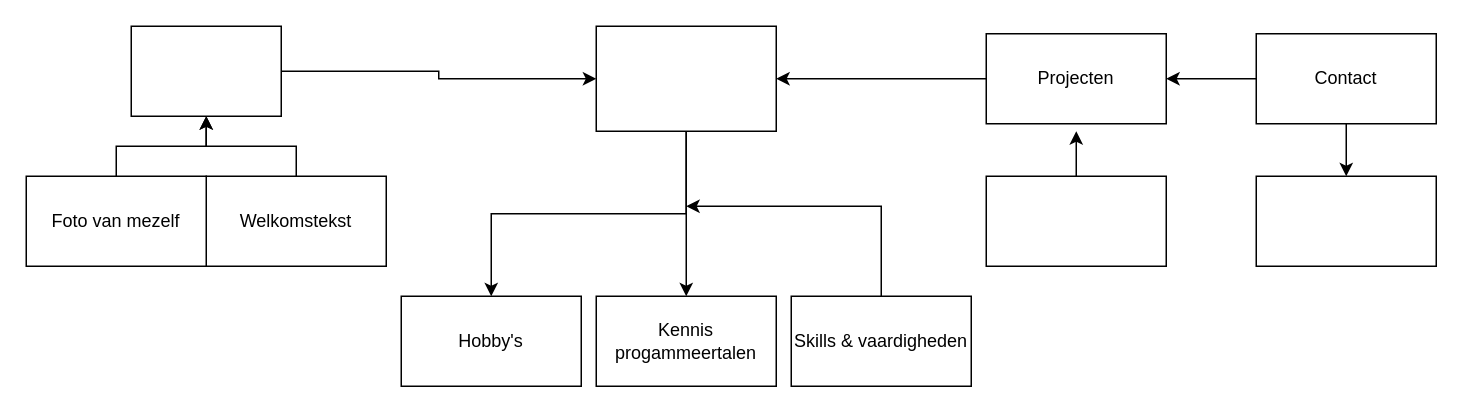
The diagram is 1463 pixels wide and 413 high, and some of its shapes have lost their labels. Here are the shapes that lost their labels. From the top down, the box of each, then its label:
(130, 25, 281, 116): Homepagina
(595, 25, 776, 131): Over mij
(985, 175, 1166, 266): Foto's project
(1255, 175, 1436, 266): Contactformulier
